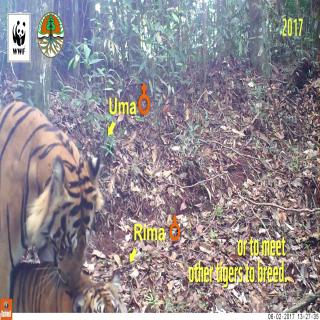Tiger: (0, 100, 97, 273), (9, 255, 117, 314)
